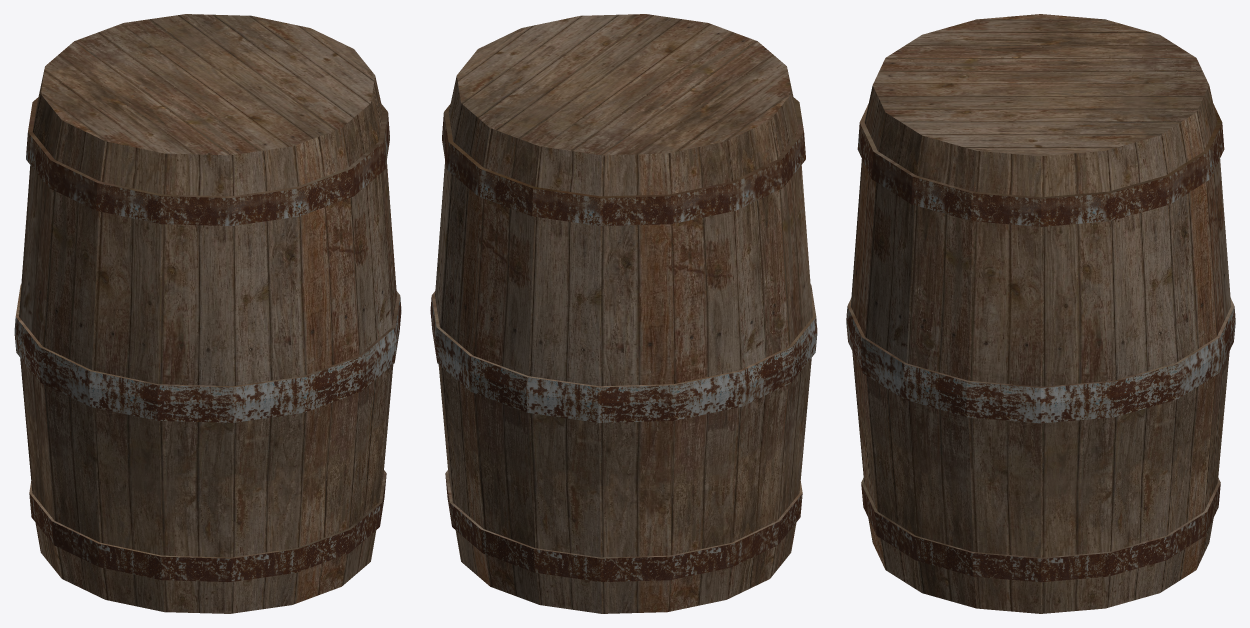
Rendered from Barrel.fbx.
3 renders of one model, left to right at view 1: azimuth 30°, elevation 25°; view 2: azimuth 150°, elevation 25°; view 3: azimuth 270°, elevation 25°, orthographic.
Visible parts, largest first — view 1: Cylinder; view 2: Cylinder; view 3: Cylinder.
Part boxes in pixels (x1,y1,x2,y2): Cylinder: [14, 14, 401, 613]; Cylinder: [430, 14, 817, 613]; Cylinder: [846, 14, 1235, 613].
Size of the model in its own units: 231 by 300 by 231.
